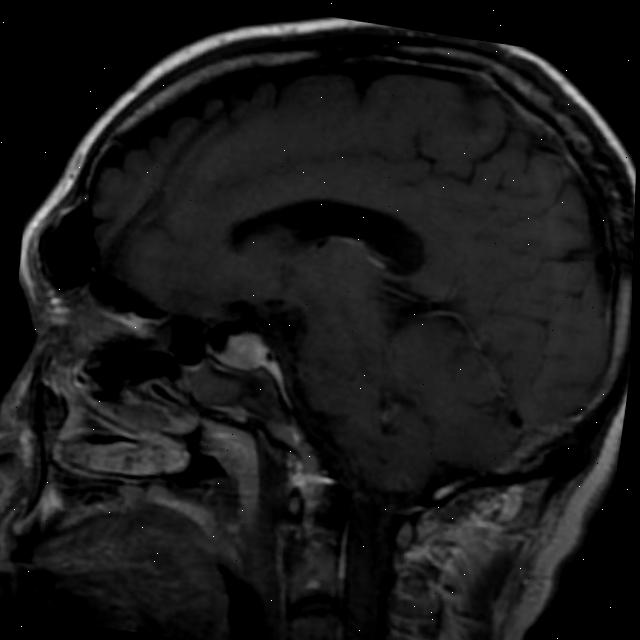Pituitary: (216, 325, 272, 373)
